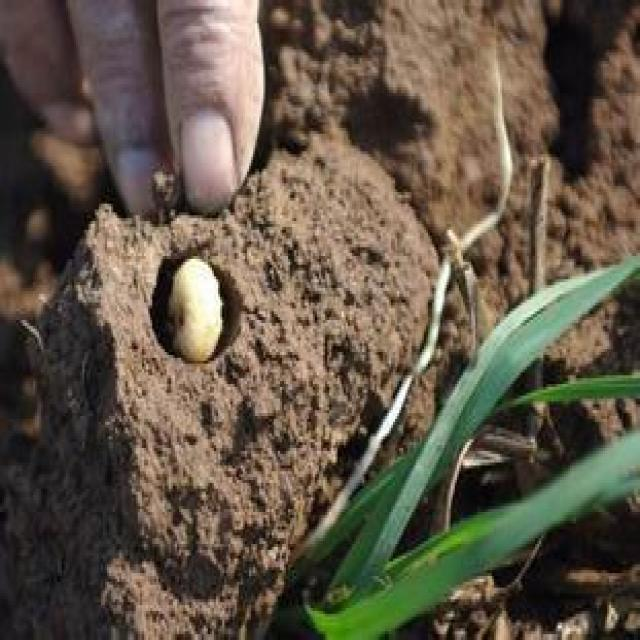Grub-Adult-: (143, 242, 234, 366)
